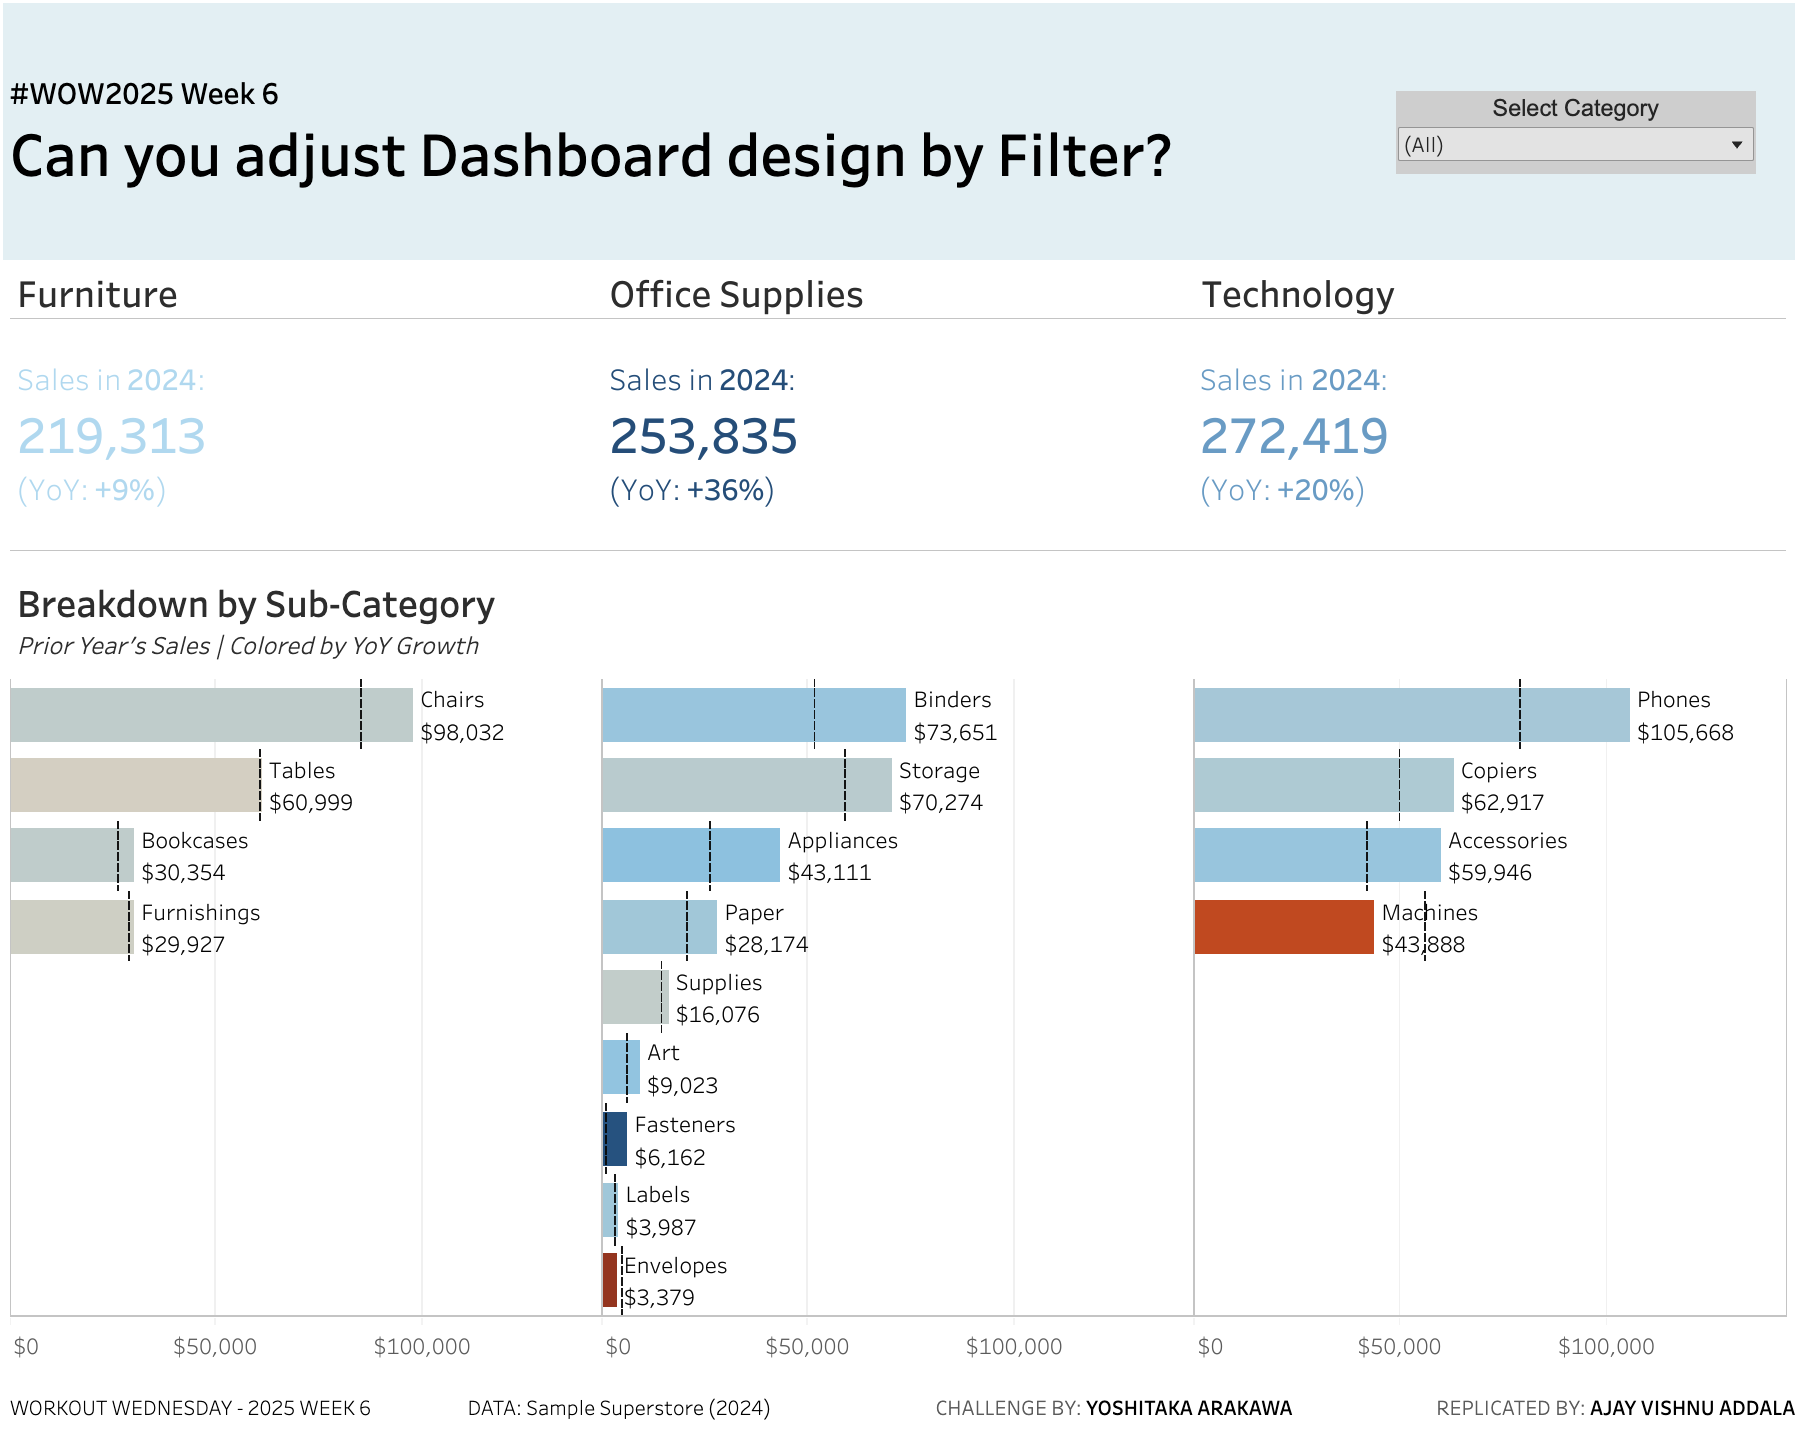

The page's visual inventory and layout, read from the dashboard file:
{"tool":"tableau","page":{"name":"WOW2025 W6","canvas":[1000,800],"ordinal":0},"visuals":[{"type":"text","box":[2,2,996,143]},{"type":"blank","box":[776,51,200,45]},{"type":"setMembership","title":"Div by Category","param":"[federated.008nzv90twyjwr1gvtdwx0y27woh].[Selected Categogy Set]","box":[776,51,200,45]},{"type":"worksheet","title":"Div by Product","mark":"Automatic","rows":["Product Name"],"cols":["Calculation_5154580926839296005"],"box":[426,139.3,572,626.7]},{"type":"worksheet","title":"Div by Category","mark":"Automatic","cols":["Category"],"box":[2,145,996,166]},{"type":"worksheet","title":"Div by SubCategory","mark":"Automatic","cols":["Category","Calculation_5154580926839296005"],"box":[2,311,996,455]},{"type":"text","box":[2,766,217,32]},{"type":"text","box":[219,766,251,32]},{"type":"text","box":[470,766,299,32]},{"type":"text","box":[769,766,229,32]}]}

Visuals, with their boxes in screenshot pixels (x1, y1, x2, y2), scaled from the page's 1000x800 canvas onto the 1798x1436 screenshot:
text: box=[4, 4, 1794, 260]
blank: box=[1395, 92, 1755, 172]
"Div by Category" setMembership: box=[1395, 92, 1755, 172]
"Div by Product" worksheet: box=[766, 250, 1794, 1375]
"Div by Category" worksheet: box=[4, 260, 1794, 558]
"Div by SubCategory" worksheet: box=[4, 558, 1794, 1375]
text: box=[4, 1375, 394, 1432]
text: box=[394, 1375, 845, 1432]
text: box=[845, 1375, 1383, 1432]
text: box=[1383, 1375, 1794, 1432]
